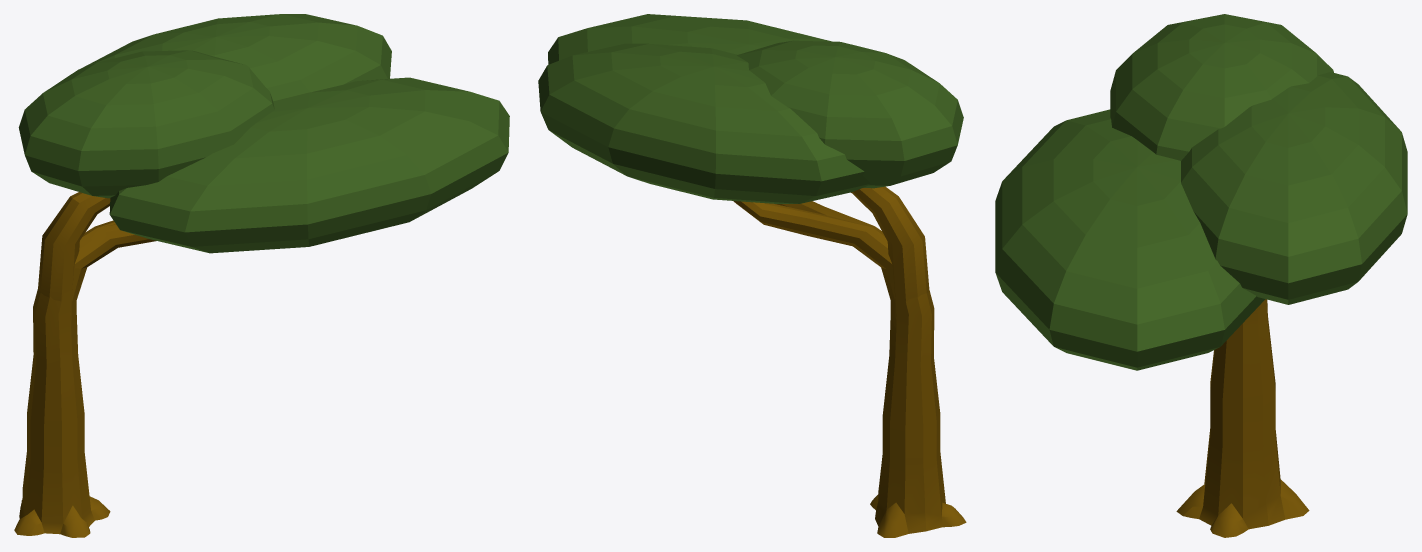
The model's file is SmallTree.fbx.
3 views of the same model, side by side, from view 1: azimuth 30°, elevation 25°; view 2: azimuth 150°, elevation 25°; view 3: azimuth 270°, elevation 25° (orthographic). The views are drawn at different scales.
Visible parts, largest first — view 1: curve4; view 2: curve4; view 3: curve4.
Boxes of the visible parts, <box> form: curve4: <box>14,14,509,537</box>; curve4: <box>538,14,966,537</box>; curve4: <box>995,14,1407,537</box>.
Size of the model in its own units: 15.78 by 14.39 by 10.41.
